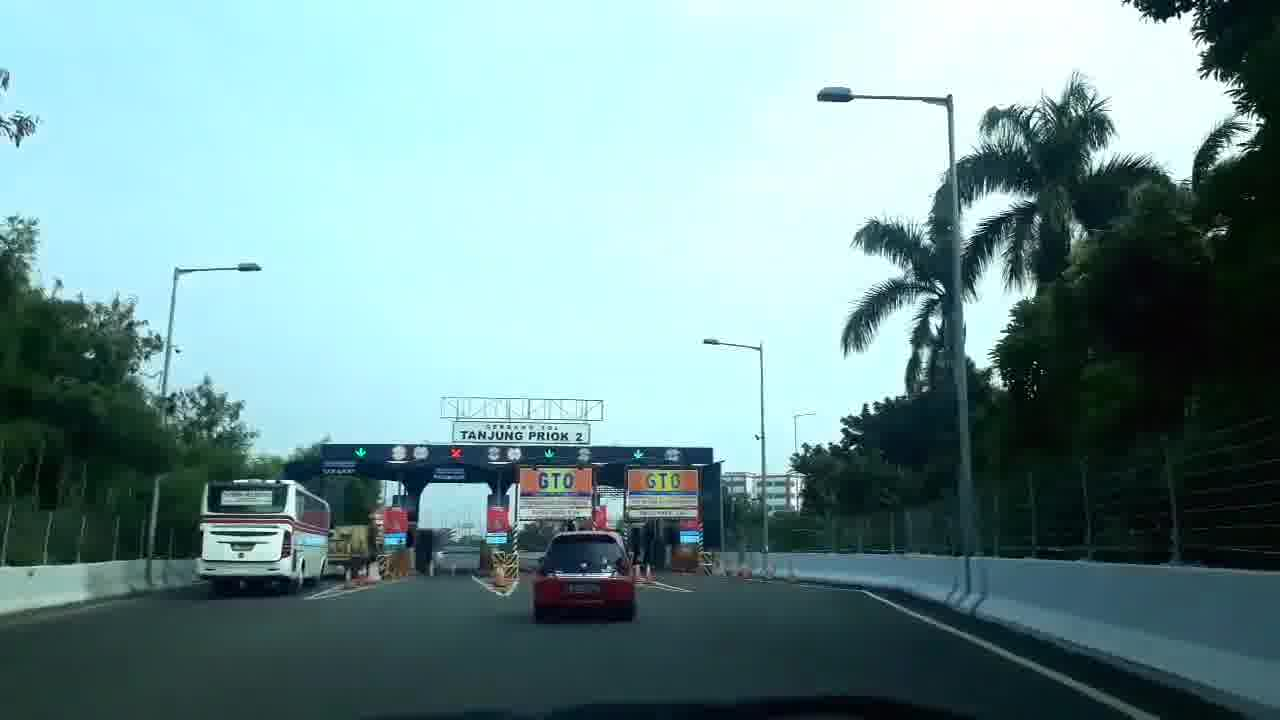plate_positive: (567, 582, 600, 593)
